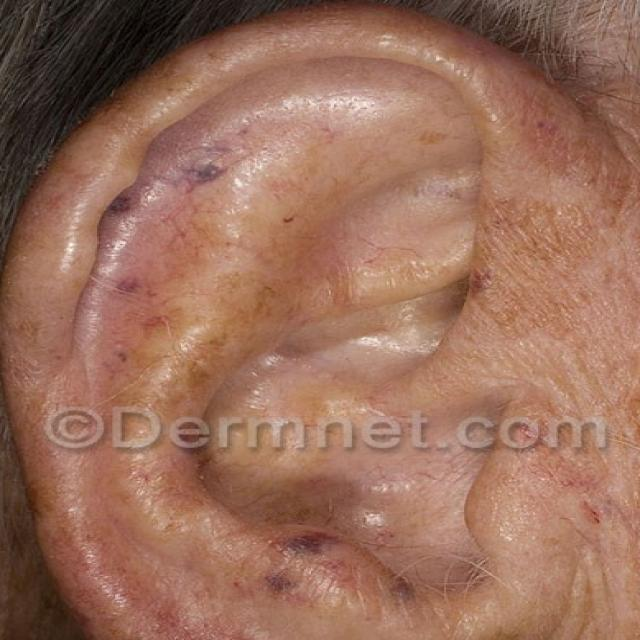Vascular Tumors: (56, 101, 233, 289), (187, 545, 469, 640)
